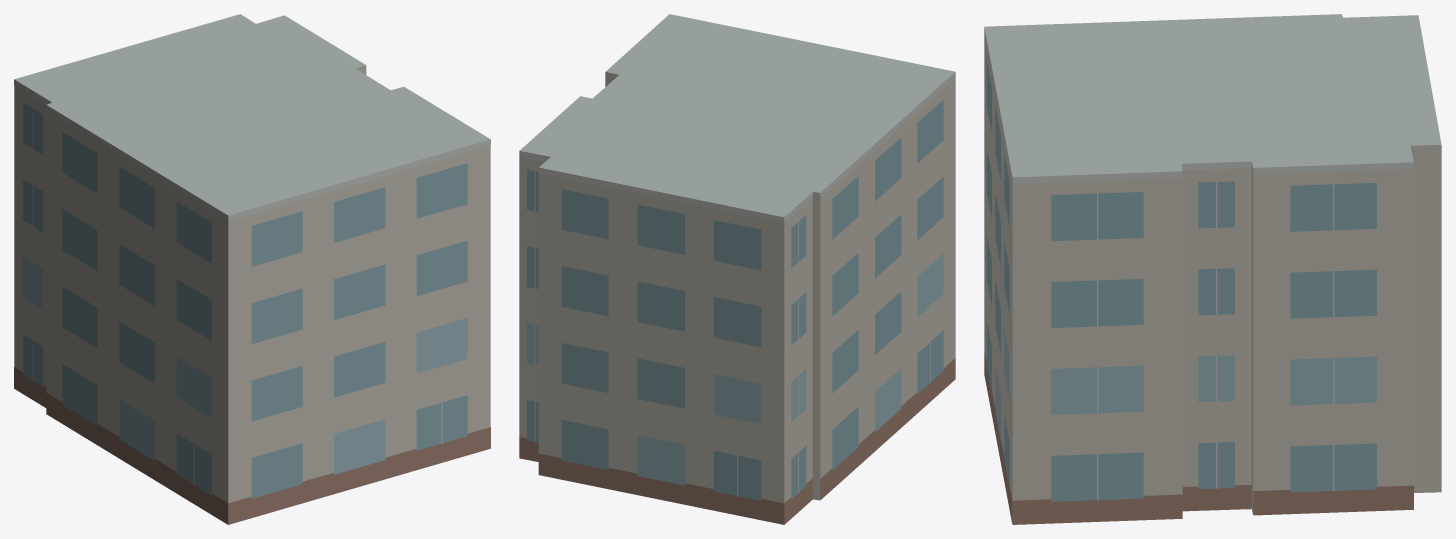
File: survey-upis-32970822.glb
3 views of the same model, side by side, from view 1: azimuth 30°, elevation 25°; view 2: azimuth 150°, elevation 25°; view 3: azimuth 270°, elevation 25° (orthographic). The views are drawn at different scales.
Visible parts, largest first — view 1: survey-upis-32970822.tmp; view 2: survey-upis-32970822.tmp; view 3: survey-upis-32970822.tmp.
Part boxes in pixels (box(x1,y1,x2,y2)): survey-upis-32970822.tmp: box(14, 14, 490, 524); survey-upis-32970822.tmp: box(519, 14, 955, 524); survey-upis-32970822.tmp: box(984, 14, 1441, 524).
Bounding box in the file's own units: 12.92 × 12.8 × 15.28.
